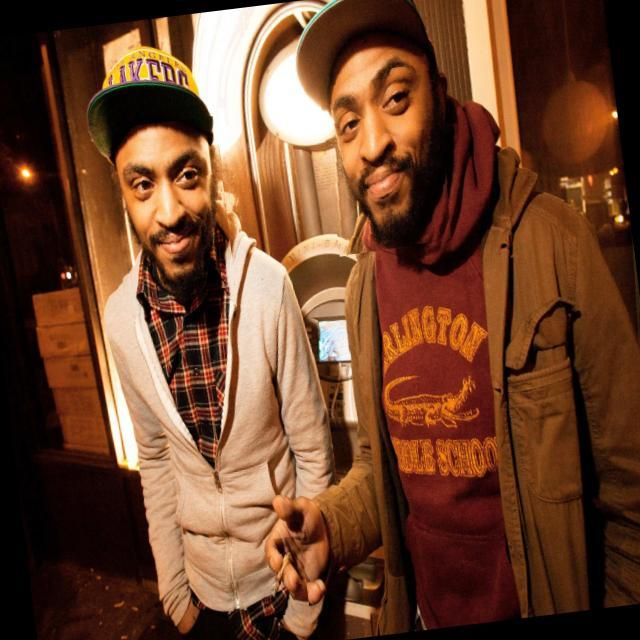cigarette: (256, 535, 310, 618)
